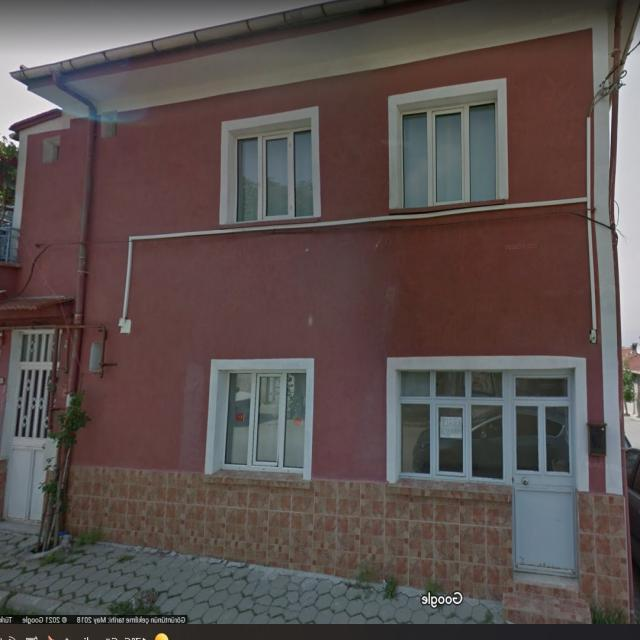Building: (0, 0, 637, 624)
